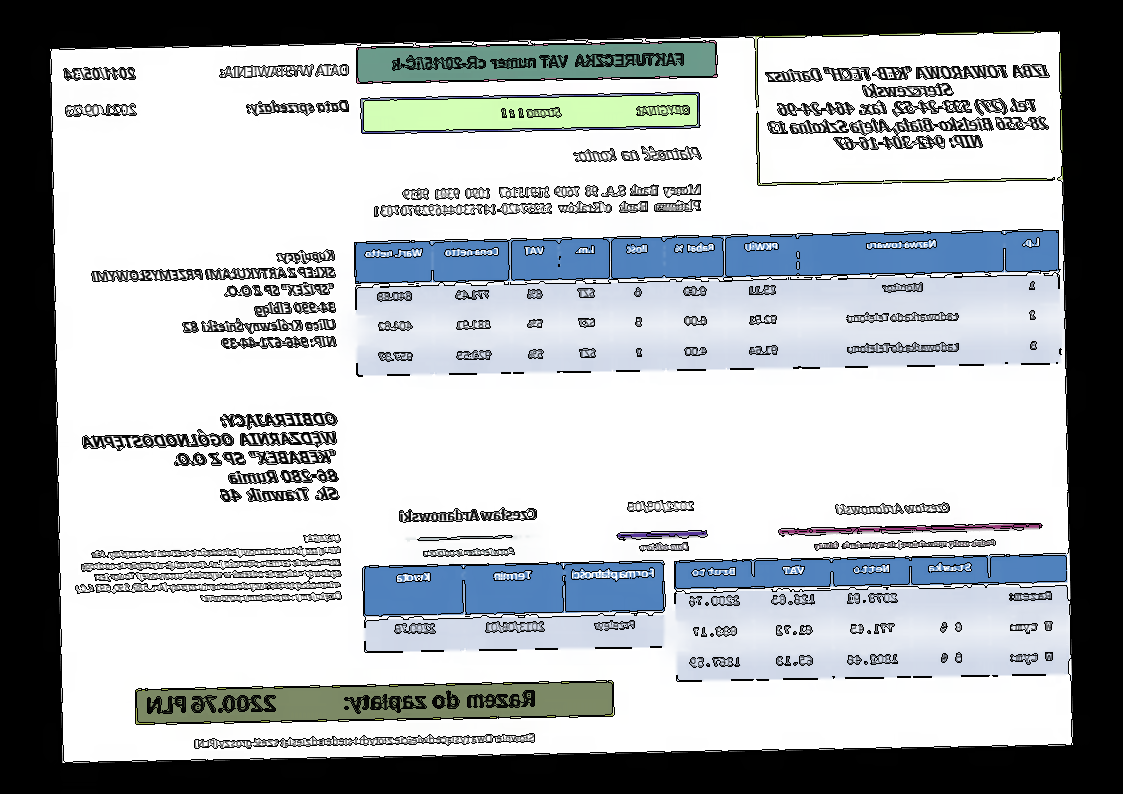Table: (352, 227, 1063, 378), (673, 552, 1071, 683), (361, 558, 667, 654)
TextBox: (764, 59, 1054, 156), (87, 245, 340, 355), (79, 410, 341, 508), (73, 530, 344, 608), (370, 179, 705, 219), (144, 686, 539, 719), (192, 730, 538, 753), (389, 48, 686, 73), (499, 99, 694, 122), (811, 535, 999, 552), (571, 142, 705, 165), (396, 504, 541, 525), (219, 60, 351, 81), (833, 497, 952, 517), (244, 96, 351, 118), (421, 544, 518, 560), (61, 63, 138, 83), (64, 100, 139, 119), (627, 497, 696, 516), (637, 540, 693, 553)
